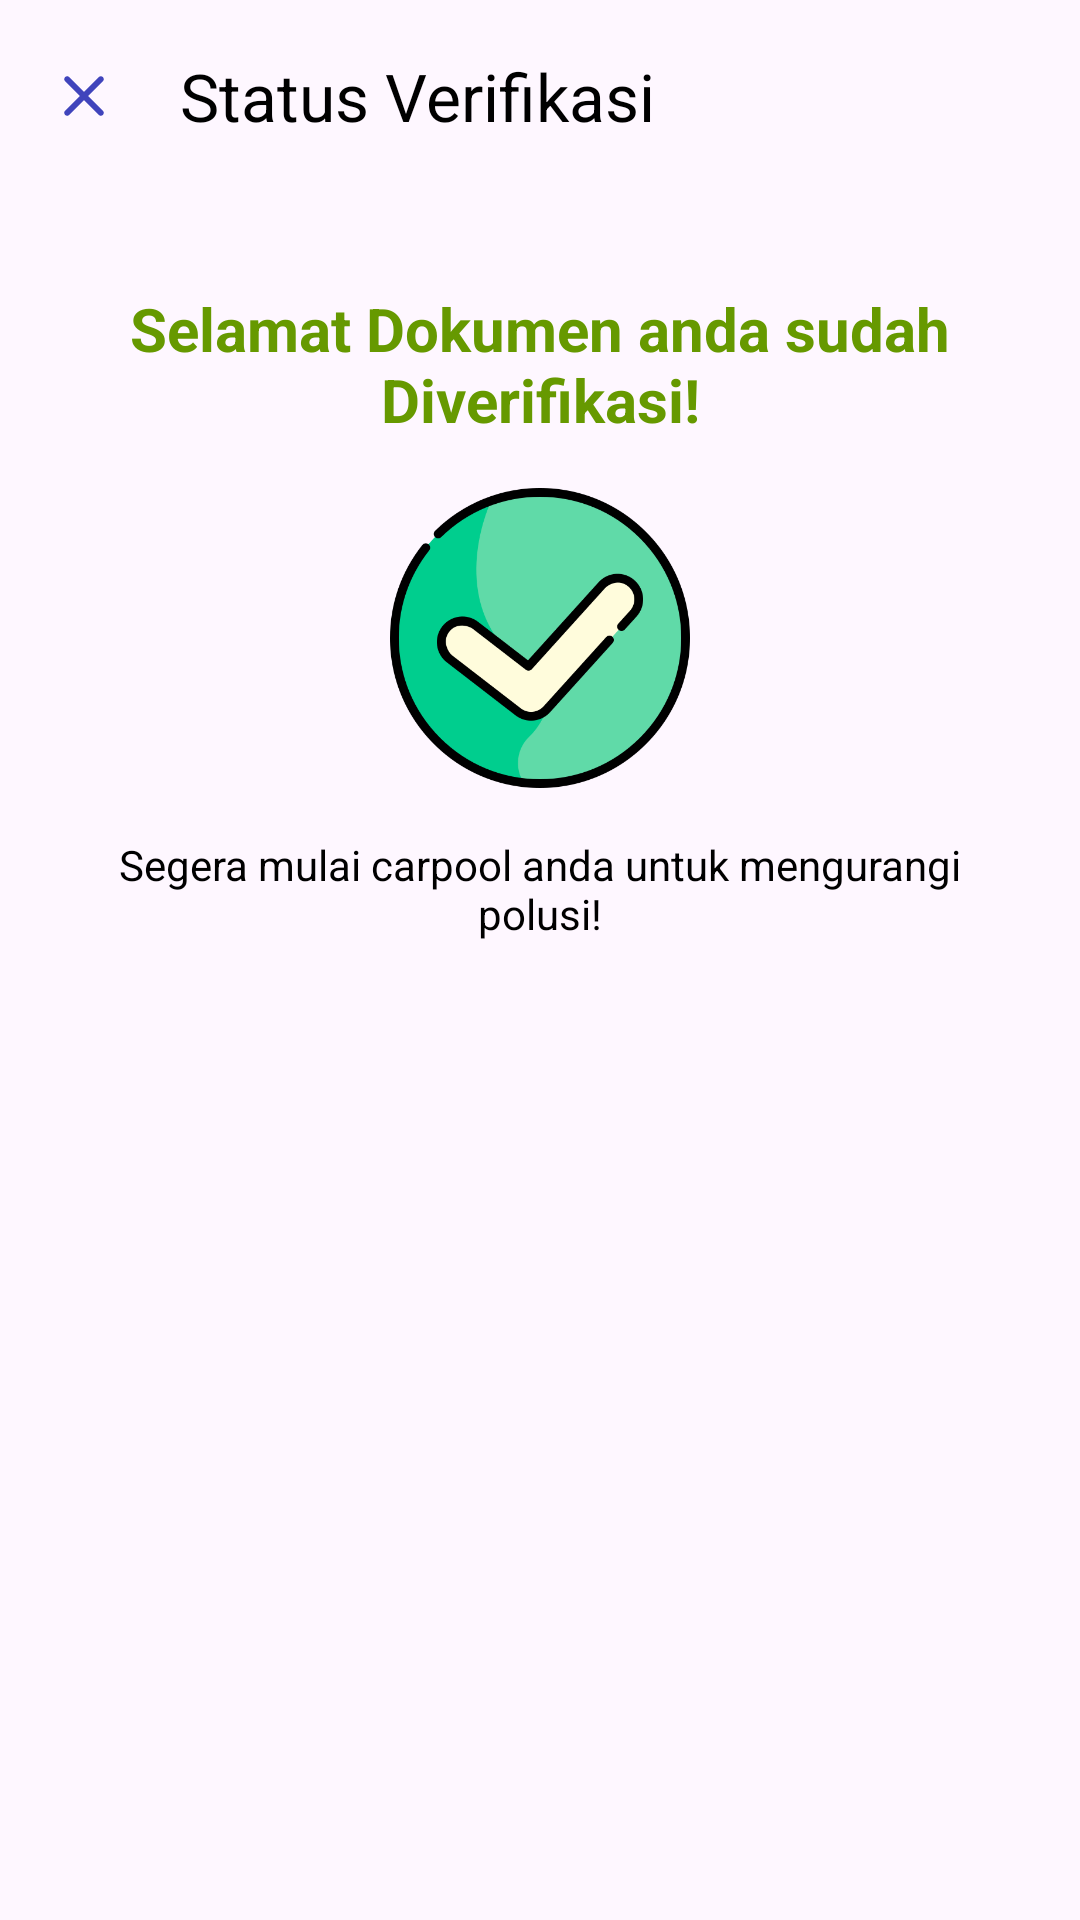

Screen size 1080px×1920px. Icon name, then its box in pixels as bbox=(x1, y1, x2, y2):
success: bbox=(390, 488, 690, 788)
